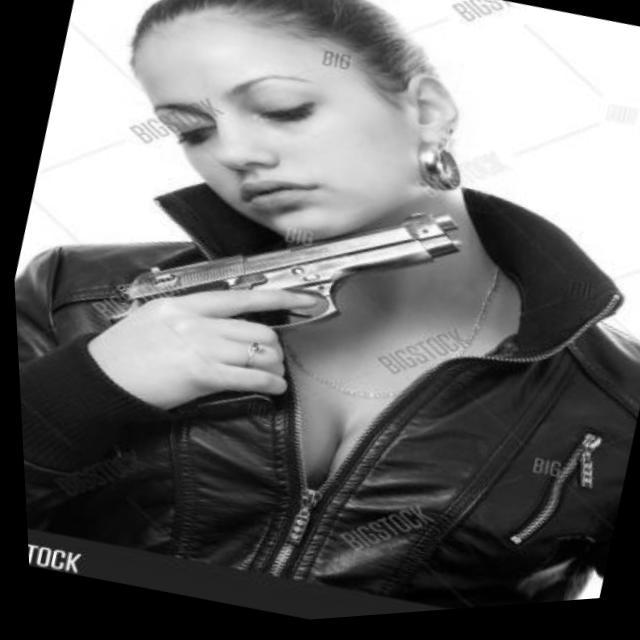weapon: (74, 135, 482, 498)
